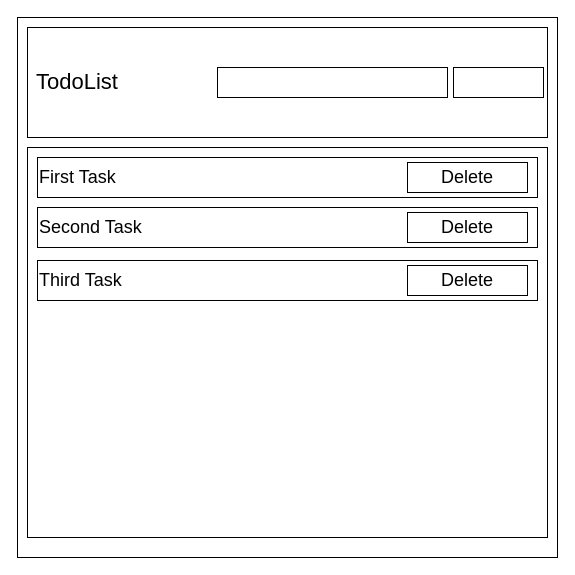
Some shapes in this 575 by 575 pixel diagram are drawn without their labels. The shapes that lost their labels are listed below. From the top down, each one's centre as x and y in pixels, then its label:
At point 332,82: "Task name".
At point 498,82: "Add".
